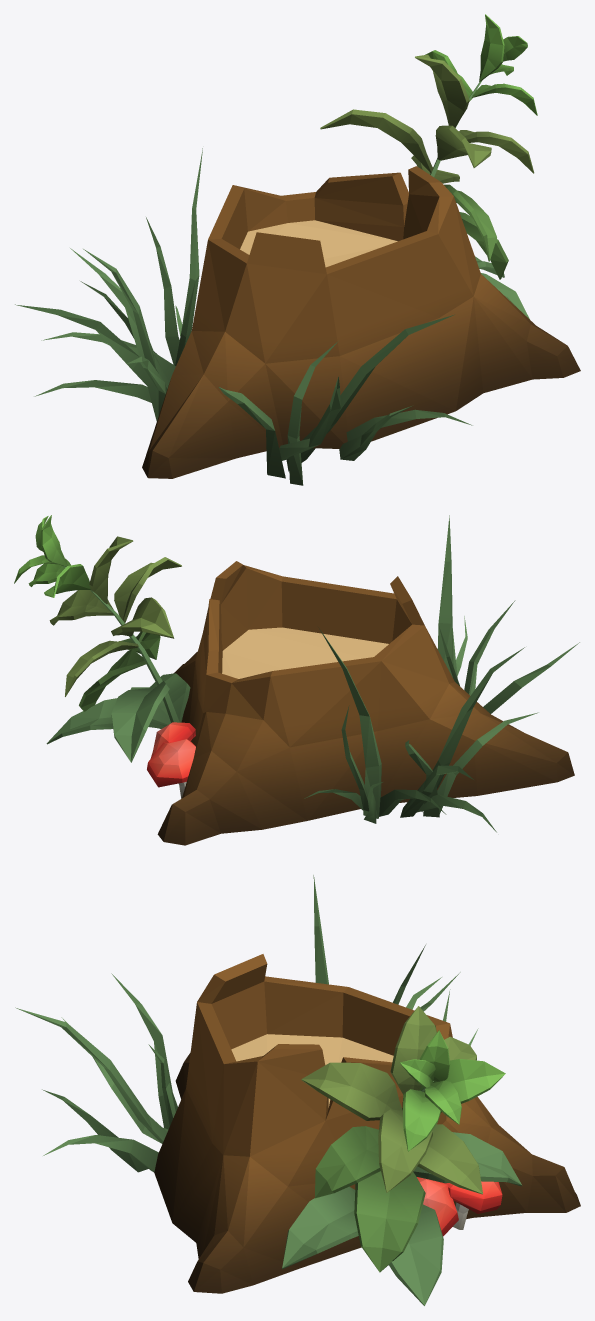
Rendered from TreeStump_B-02.FBX.
3 views of the same model, one above another, from view 1: azimuth 30°, elevation 25°; view 2: azimuth 150°, elevation 25°; view 3: azimuth 270°, elevation 25° (orthographic). The views are drawn at different scales.
Parts seen in each view (by area): view 1: TreeStump_B-02; view 2: TreeStump_B-02; view 3: TreeStump_B-02.
Part boxes in pixels (x1=…): TreeStump_B-02: x1=15, y1=14, x2=580, y2=485; TreeStump_B-02: x1=14, y1=515, x2=579, y2=845; TreeStump_B-02: x1=15, y1=875, x2=580, y2=1305.
Size of the model in its own units: 225 by 125 by 209.
Materials: 1 (1 with a texture image).
